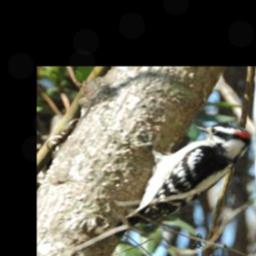Woodpecker: (123, 123, 251, 226)
